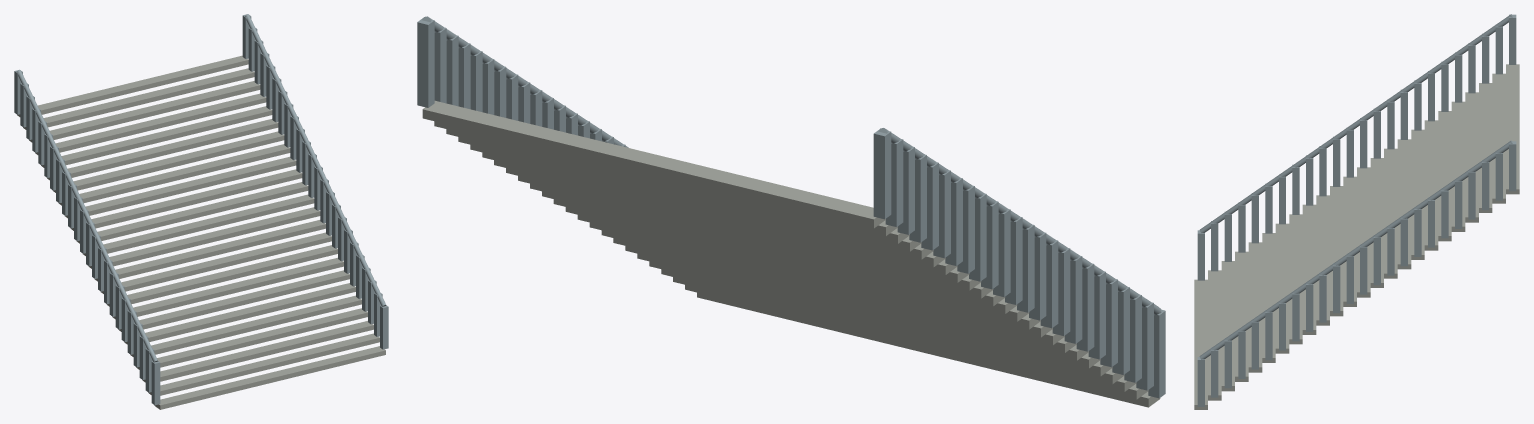
Rendered from SM_StationStair.fbx.
The picture shows the model from 3 angles, left to right: view 1: azimuth 30°, elevation 25°; view 2: azimuth 150°, elevation 25°; view 3: azimuth 270°, elevation 25°; orthographic projection. The views are drawn at different scales.
Parts seen in each view (by area): view 1: SM_StationStair_UEExport; view 2: SM_StationStair_UEExport; view 3: SM_StationStair_UEExport.
Part boxes in pixels (bbox=[...]): SM_StationStair_UEExport: bbox=[14, 14, 388, 409]; SM_StationStair_UEExport: bbox=[417, 16, 1165, 407]; SM_StationStair_UEExport: bbox=[1194, 14, 1519, 409].
Bounding box in the file's own units: 188 × 200 × 183.
